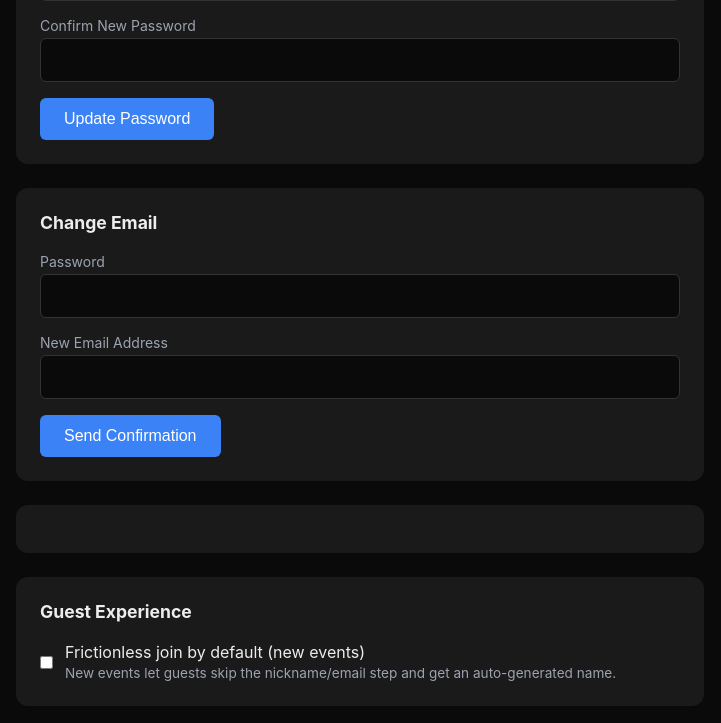
Test: AccountPage › shows check-inbox state after successful email request
The width and height of the screenshot is (721, 723).
(page scrolled)
Type "new@example.com" into the field labelled "New Email Address" at (360, 377), box [40,355,680,399]
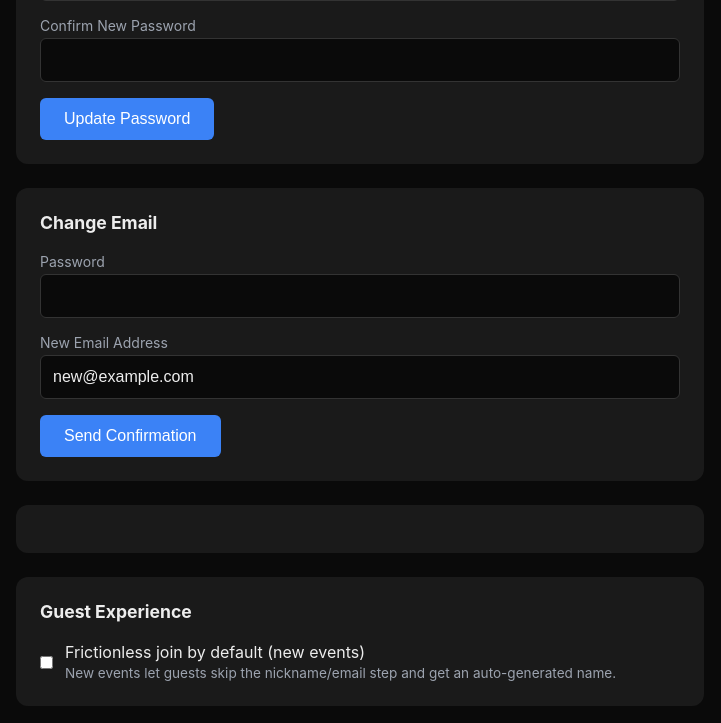
Click the button "Send Confirmation" at (130, 436), box [40,415,220,457]
(page scrolled)
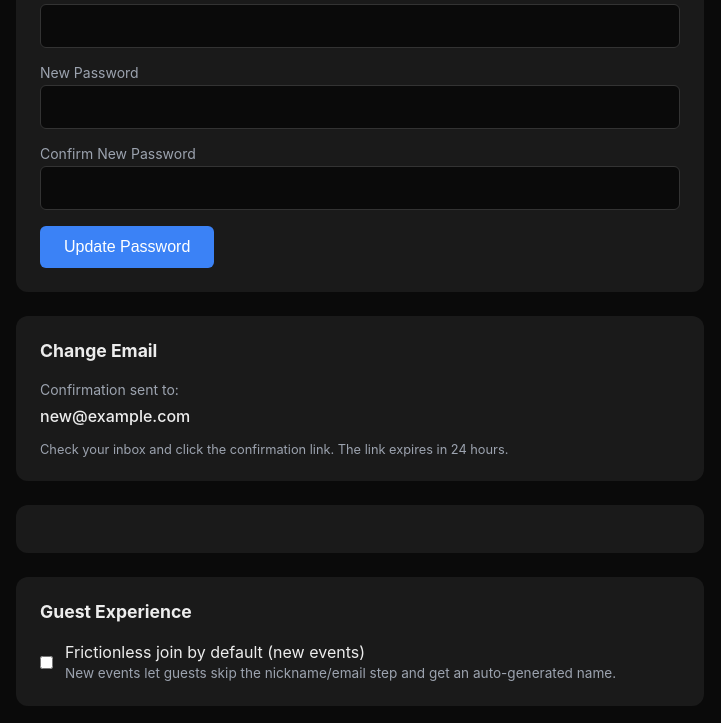
Check: the text "new@example.com" is shown, box [40,406,190,426]
Check: the text "Check your inbox" is shown, box [40,442,508,457]
